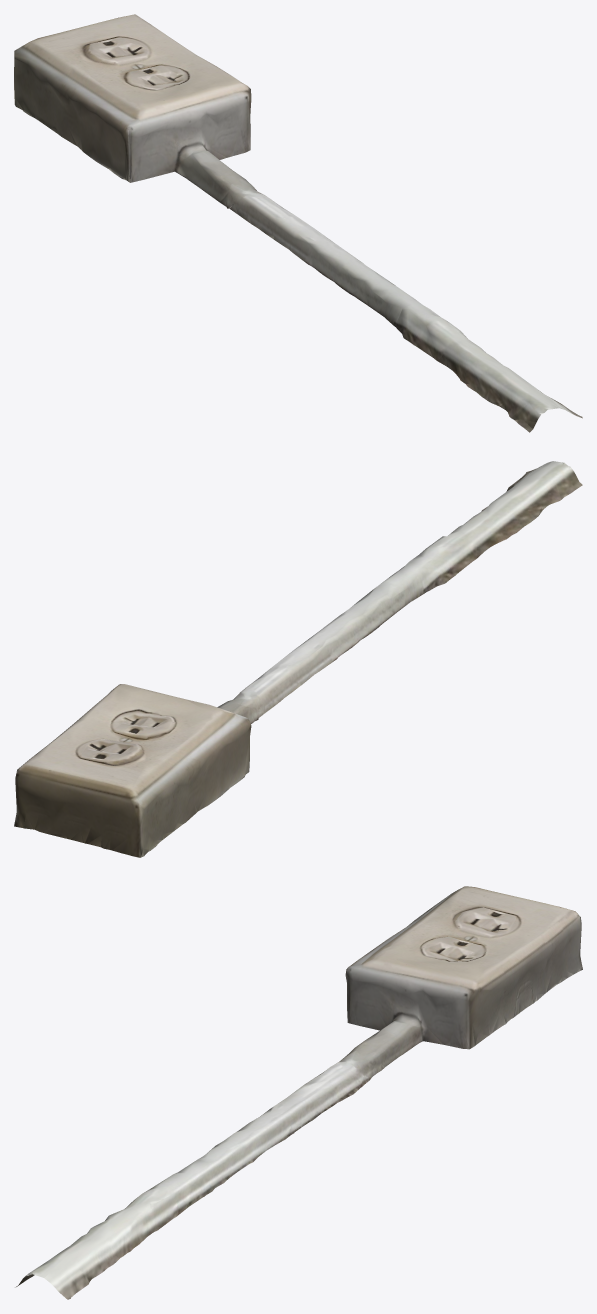
The model's file is outlet.obj.
3 renders of one model, top to bottom at view 1: azimuth 30°, elevation 25°; view 2: azimuth 150°, elevation 25°; view 3: azimuth 330°, elevation 25°, orthographic.
Visible parts, largest first — view 1: 3DModel_LowPoly; view 2: 3DModel_LowPoly; view 3: 3DModel_LowPoly.
Part boxes in pixels (bbox=[...]): 3DModel_LowPoly: bbox=[14, 14, 582, 432]; 3DModel_LowPoly: bbox=[14, 461, 582, 857]; 3DModel_LowPoly: bbox=[15, 886, 582, 1299].
Size of the model in its own units: 1.06 by 0.527 by 6.67.
